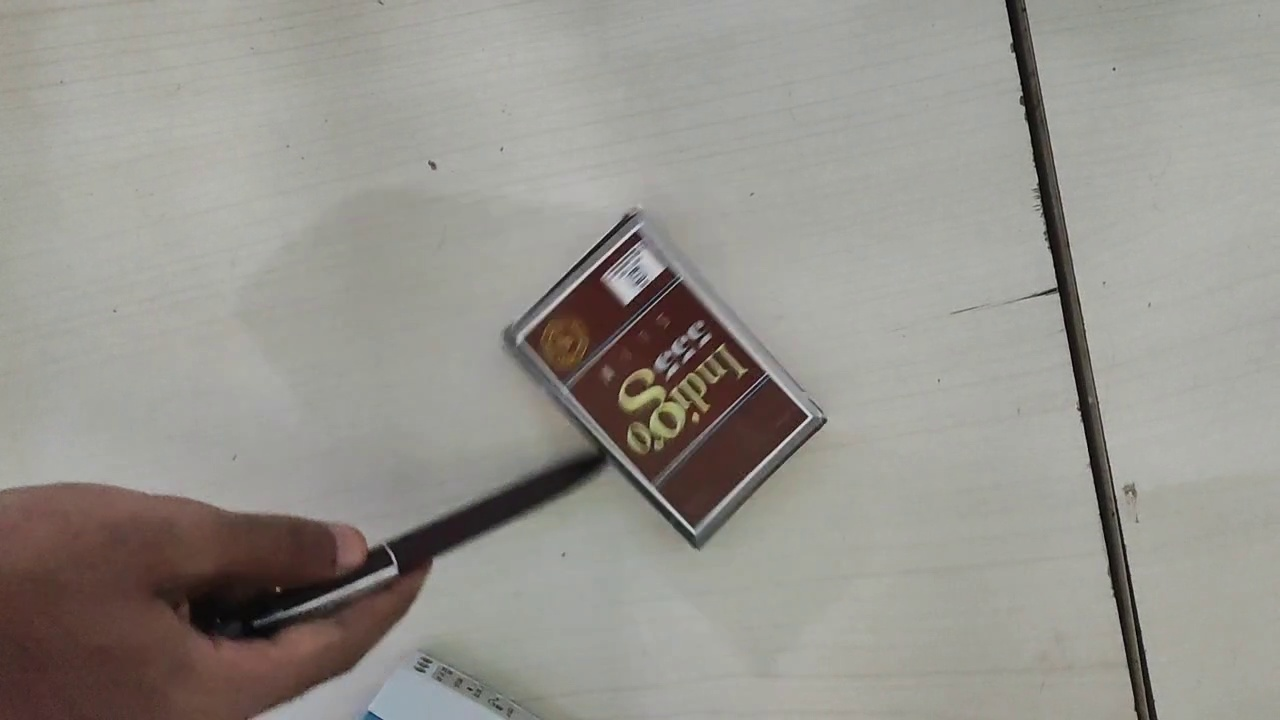BEX: (518, 227, 804, 532)
